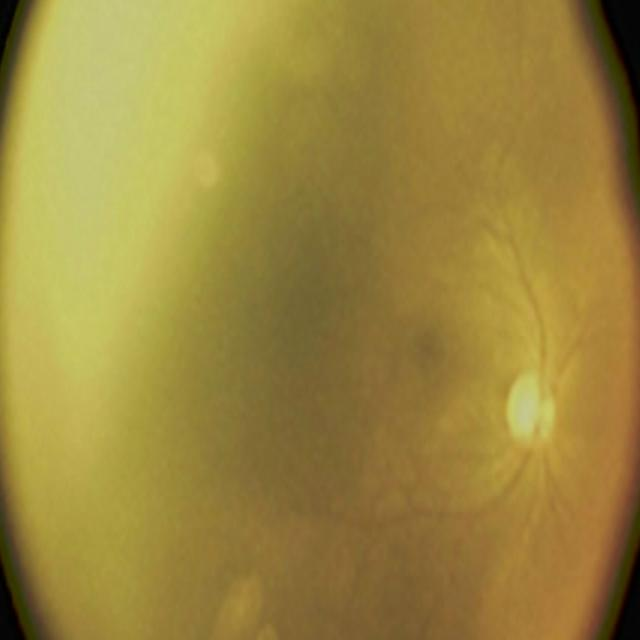optic-nerve: (493, 332, 582, 510)
